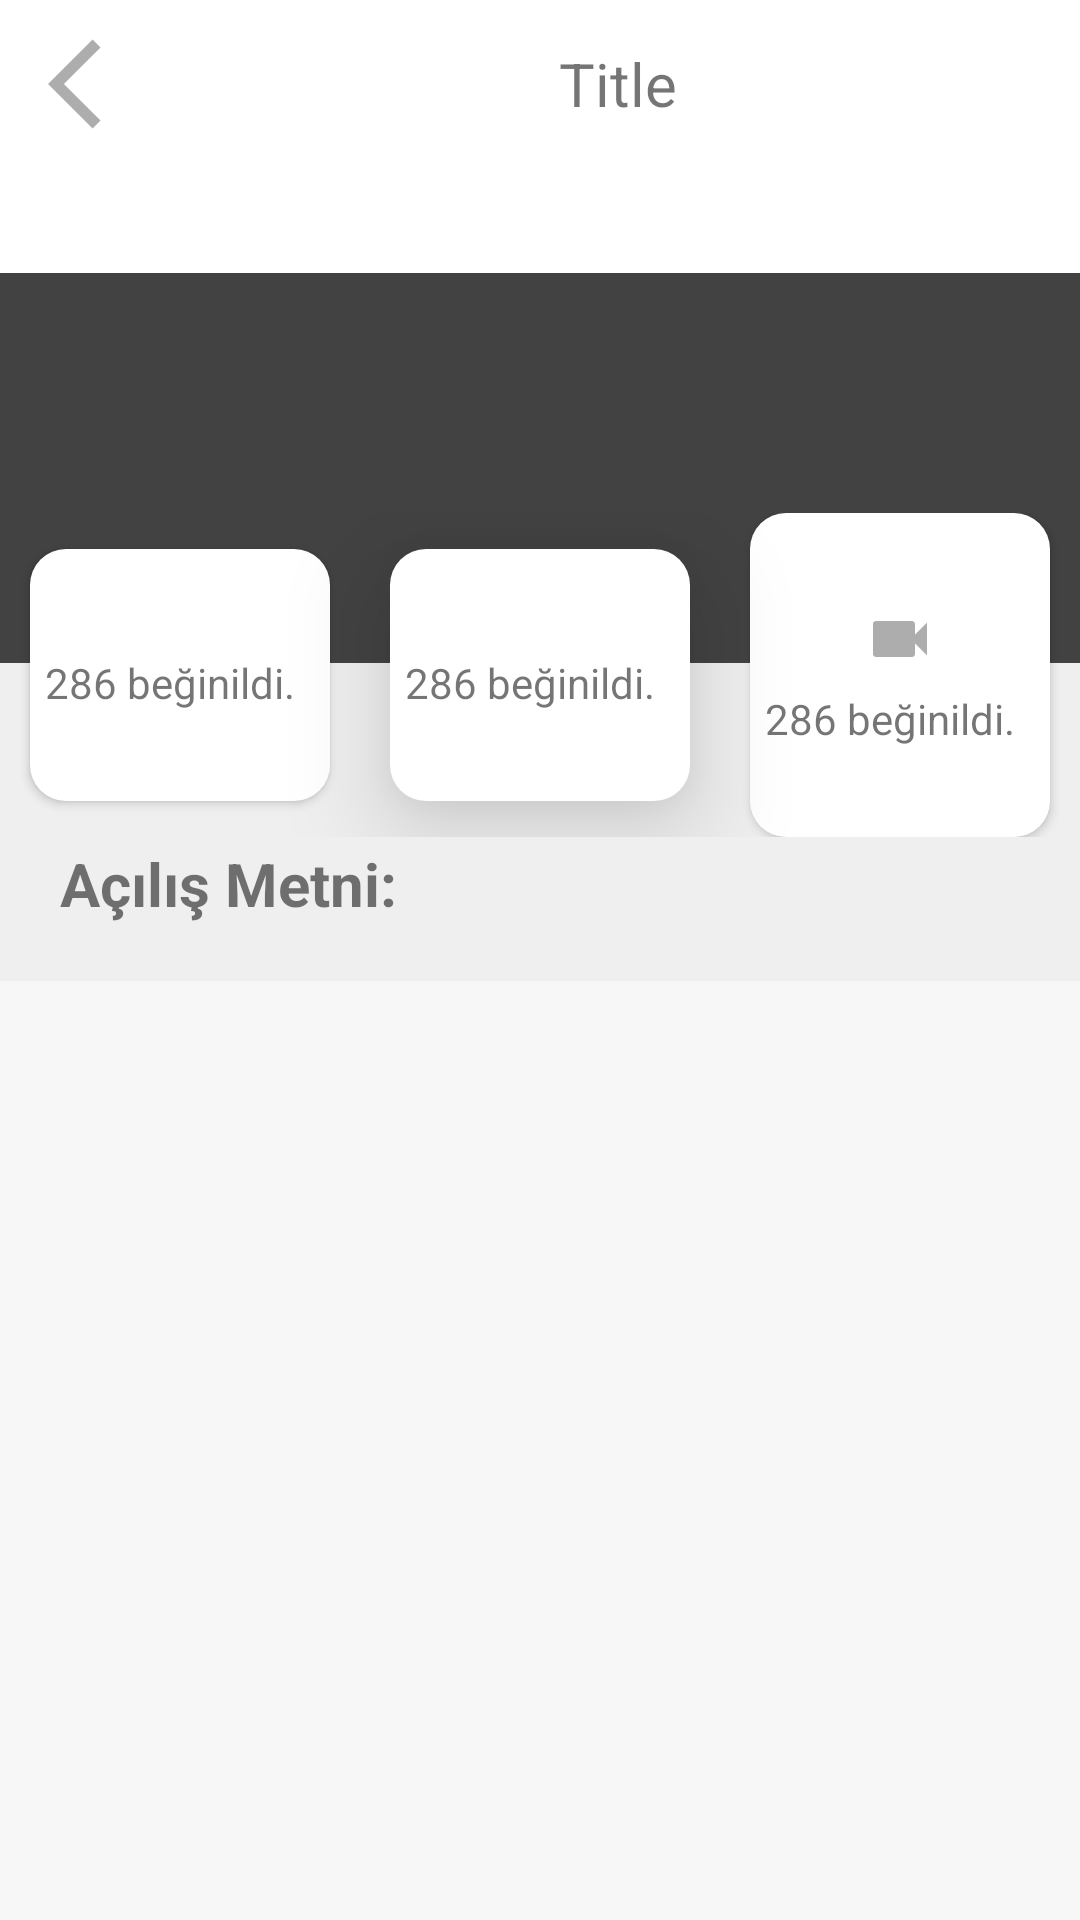

Icons on this 1080px x 1920px Android screen, each with its box as (x1, y1, x2, y2):
back fragment: (48, 40, 100, 128)
